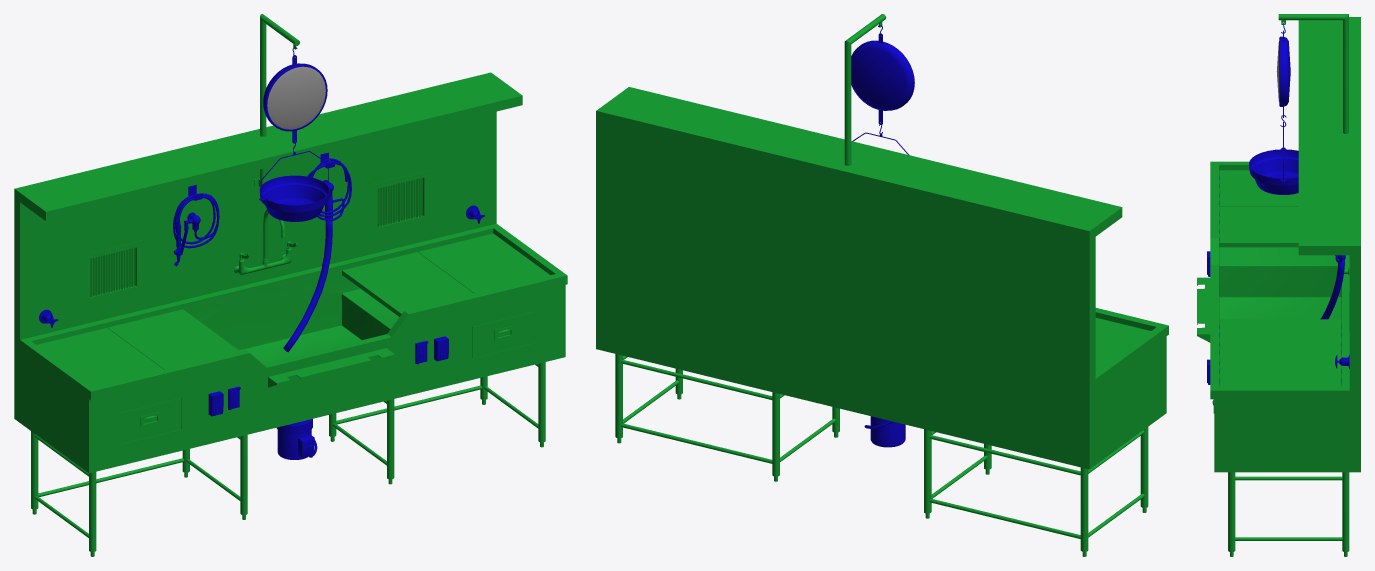
File: SM_Wall_Mount_Autopsy_Station.FBX
3 renders of one model, left to right at view 1: azimuth 30°, elevation 25°; view 2: azimuth 150°, elevation 25°; view 3: azimuth 270°, elevation 25°, orthographic. The views are drawn at different scales.
Parts seen in each view (by area): view 1: Wall_Mount_Autopsy_Station_body, Wall_Mount_Autopsy_Station_plates (×4), Wall_Mount_Autopsy_Station_libra, Wall_Mount_Autopsy_Station_bowl, Wall_Mount_Autopsy_Station_drawer_2, Wall_Mount_Autopsy_Station_drawer_1, Wall_Mount_Autopsy_Station_hose_2; view 2: Wall_Mount_Autopsy_Station_body, Wall_Mount_Autopsy_Station_libra, Wall_Mount_Autopsy_Station_plates; view 3: Wall_Mount_Autopsy_Station_body, Wall_Mount_Autopsy_Station_plates (×4), Wall_Mount_Autopsy_Station_bowl, Wall_Mount_Autopsy_Station_libra, Wall_Mount_Autopsy_Station_hose_2.
Boxes of the visible parts, x1,y1,x2,y2 form: Wall_Mount_Autopsy_Station_body: (14, 14, 567, 556); Wall_Mount_Autopsy_Station_plates (×4): (37, 233, 549, 386); Wall_Mount_Autopsy_Station_libra: (263, 55, 327, 153); Wall_Mount_Autopsy_Station_bowl: (259, 151, 330, 221); Wall_Mount_Autopsy_Station_drawer_2: (472, 312, 535, 357); Wall_Mount_Autopsy_Station_drawer_1: (119, 398, 181, 444); Wall_Mount_Autopsy_Station_hose_2: (283, 221, 332, 352); Wall_Mount_Autopsy_Station_body: (596, 14, 1168, 556); Wall_Mount_Autopsy_Station_libra: (851, 33, 914, 134); Wall_Mount_Autopsy_Station_plates: (1095, 317, 1150, 371); Wall_Mount_Autopsy_Station_body: (1197, 14, 1360, 556); Wall_Mount_Autopsy_Station_plates (×4): (1219, 170, 1341, 386); Wall_Mount_Autopsy_Station_bowl: (1249, 122, 1298, 194); Wall_Mount_Autopsy_Station_libra: (1276, 30, 1290, 126); Wall_Mount_Autopsy_Station_hose_2: (1320, 259, 1344, 319).
Bounding box in the file's own units: 300 × 266 × 90.78.
